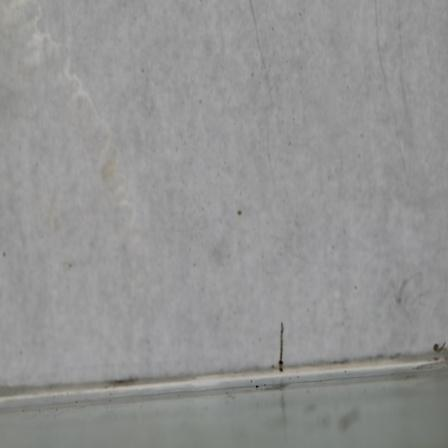Jentik-Nyamuk: (274, 319, 288, 380)
